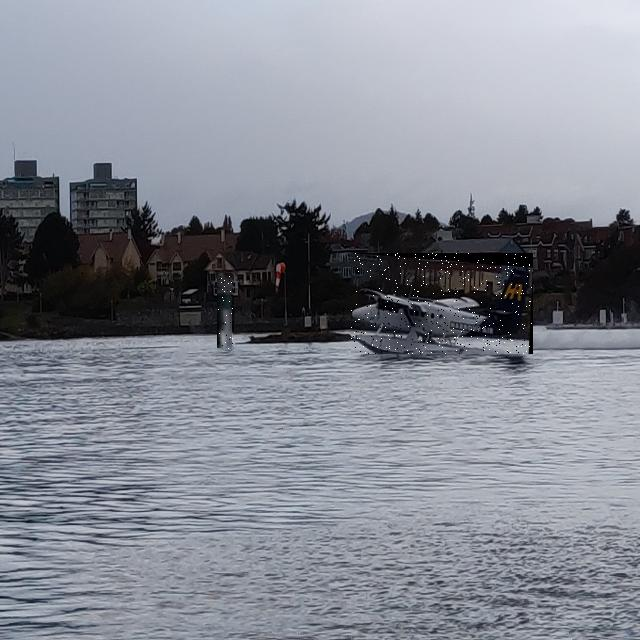aircraft: (351, 253, 533, 354)
mark: (218, 274, 234, 349)
